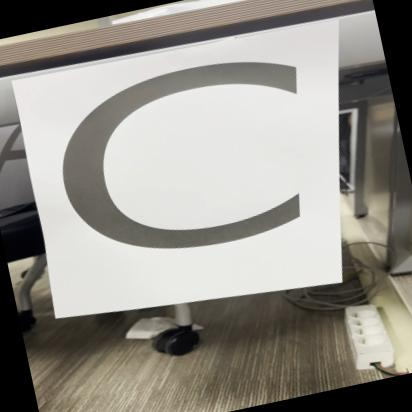seat: (16, 17, 360, 335)
